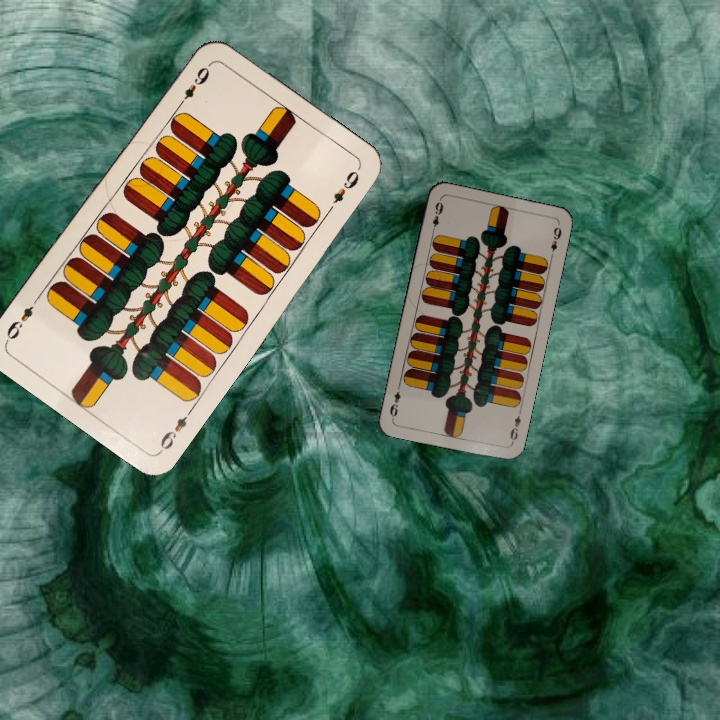E9: (173, 59, 213, 111), (156, 404, 196, 455), (506, 406, 524, 446), (428, 198, 446, 236)
